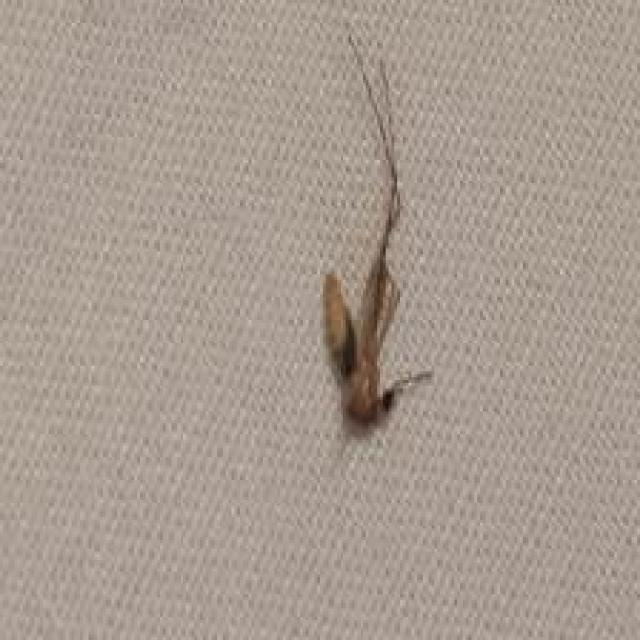Culex: (316, 23, 433, 431)
